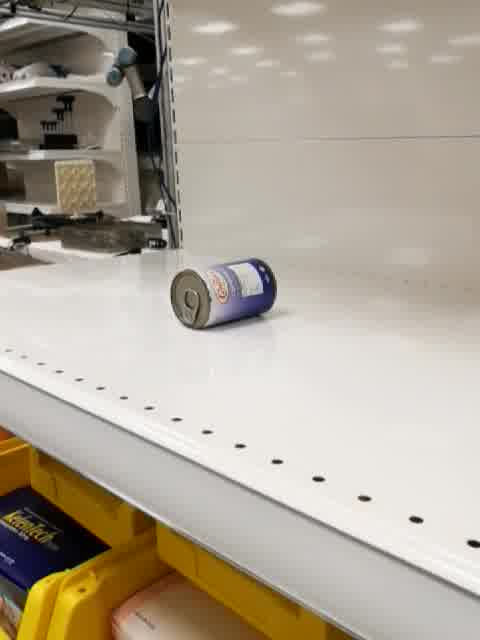sardine: (169, 257, 276, 330)
